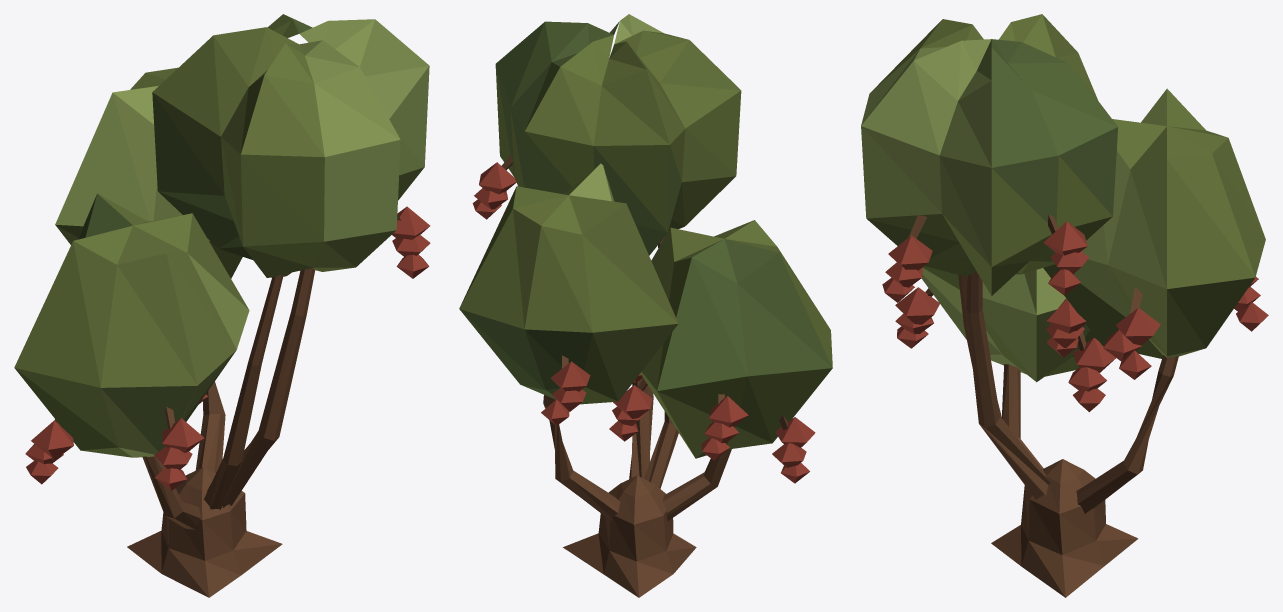
The model's file is berry-bush-ee4812.glb.
The picture shows the model from 3 angles, left to right: view 1: azimuth 30°, elevation 25°; view 2: azimuth 150°, elevation 25°; view 3: azimuth 270°, elevation 25°; orthographic projection. The views are drawn at different scales.
Visible parts, largest first — view 1: berry-bush-ee4812; view 2: berry-bush-ee4812; view 3: berry-bush-ee4812.
Part boxes in pixels (x1,y1,x2,y2): berry-bush-ee4812: [14, 14, 430, 597]; berry-bush-ee4812: [459, 14, 832, 597]; berry-bush-ee4812: [861, 14, 1268, 597].
Size of the model in its own units: 0.7322 by 0.9748 by 0.6494.
